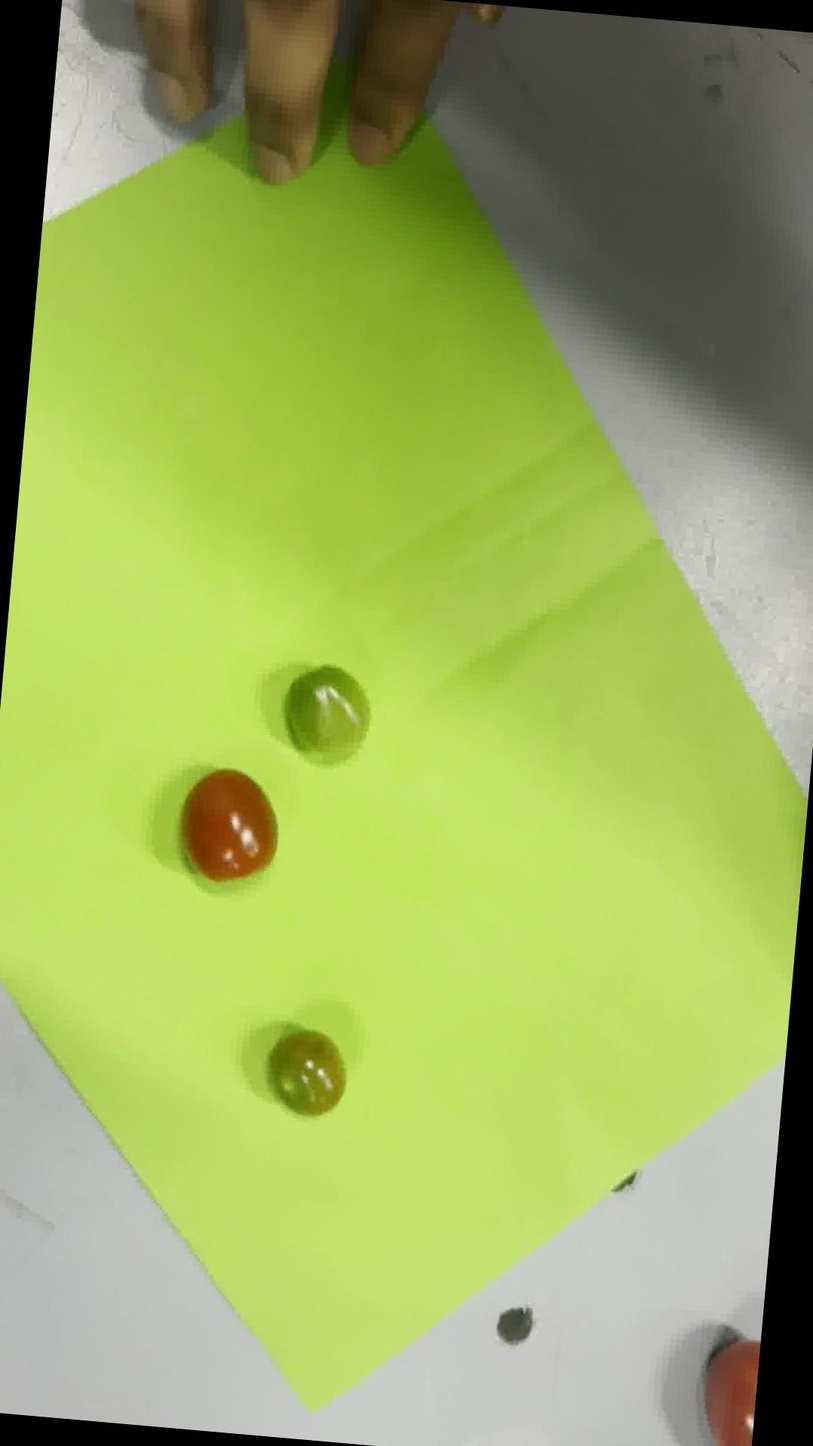green_cherry_tomato: (284, 663, 370, 764)
red_cherry_tomato: (180, 770, 277, 883)
yellow_cherry_tomato: (270, 1029, 345, 1116)
